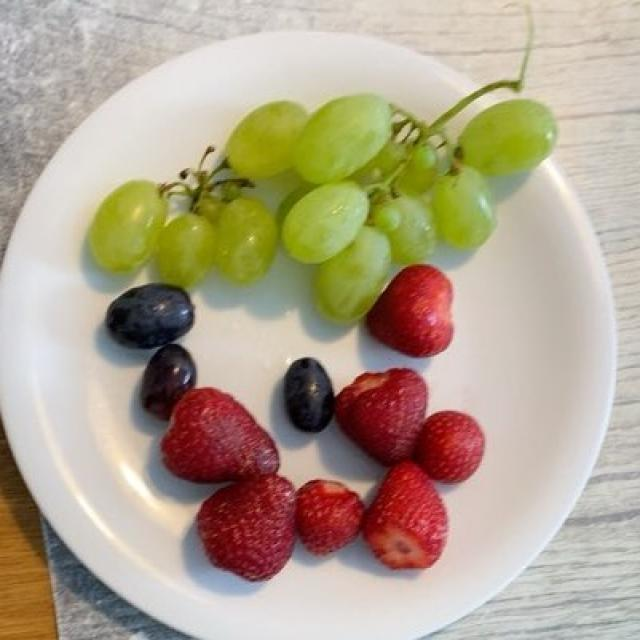grapes: (76, 63, 566, 429)
strawberries: (167, 259, 487, 567)
